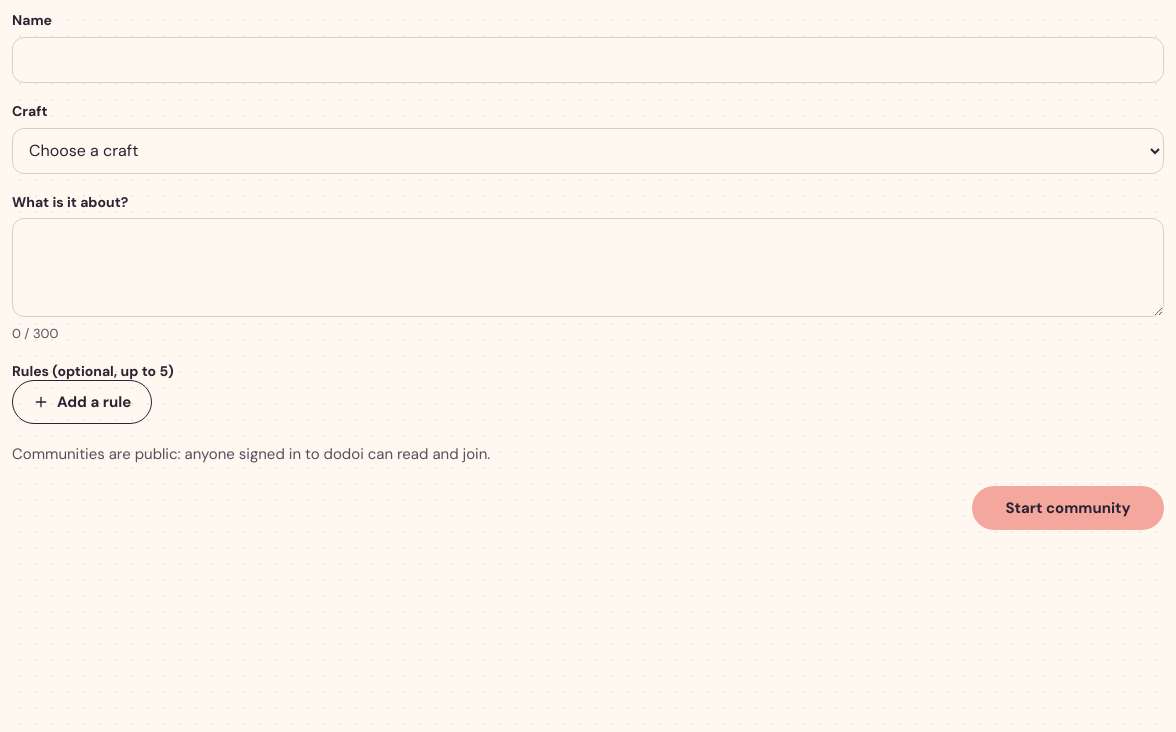
Test: CreateCommunityForm › asks for the missing parts and sends nothing
What coordinates should you click on to do the following:
click the button "Start community"
I would click on:
 (1068, 508)
Its box is top-left (972, 486), bottom-right (1164, 530).
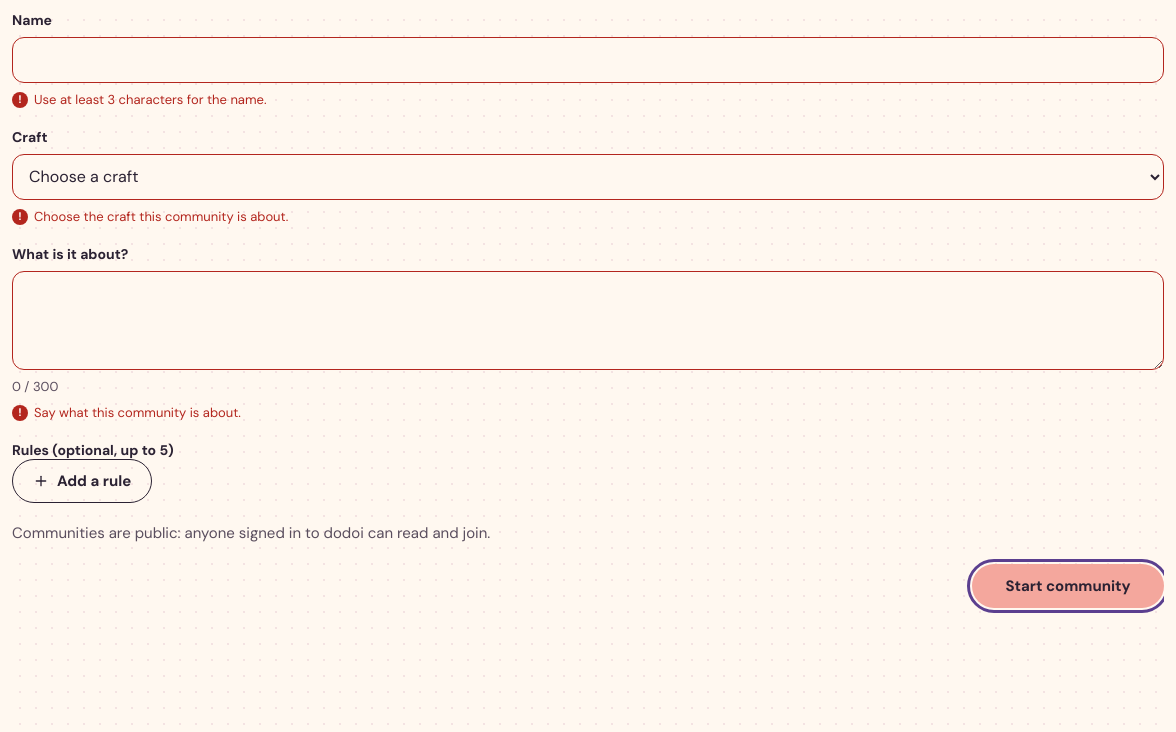
Result: the text "Use at least 3 characters for the name." is shown at top-left (34, 91), bottom-right (266, 108)
Result: the text "Choose the craft this community is about." is shown at top-left (34, 208), bottom-right (288, 225)
Result: the text "Say what this community is about." is shown at top-left (34, 404), bottom-right (241, 421)
